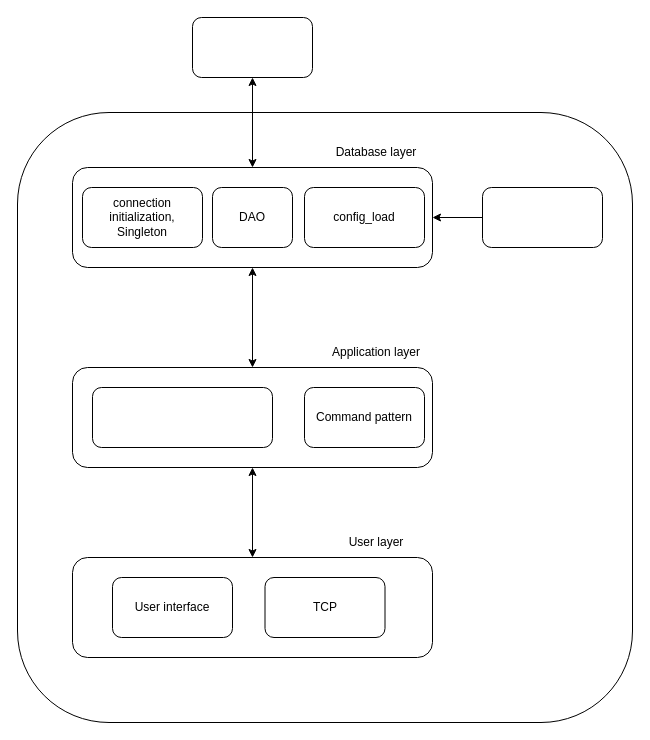
This 650x740 diagram has some shape labels left out. The shapes that lost their labels are listed below. From the top down, each one's centre as x and y in pixels, then its label:
the point at 252,47: Database (MySQL)
the point at 542,217: config.json
the point at 182,417: Input Validation (parser)
